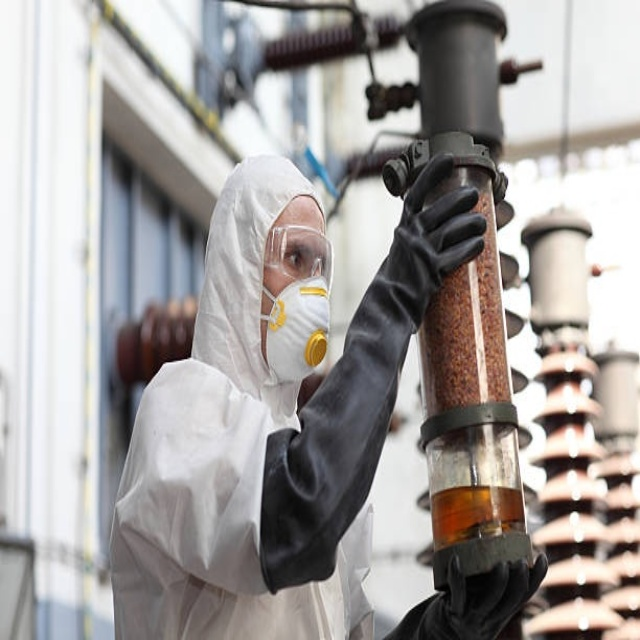Gafas: (262, 224, 334, 289)
Guantes: (378, 150, 487, 319), (408, 544, 547, 640)
Mascara: (262, 275, 331, 384)
